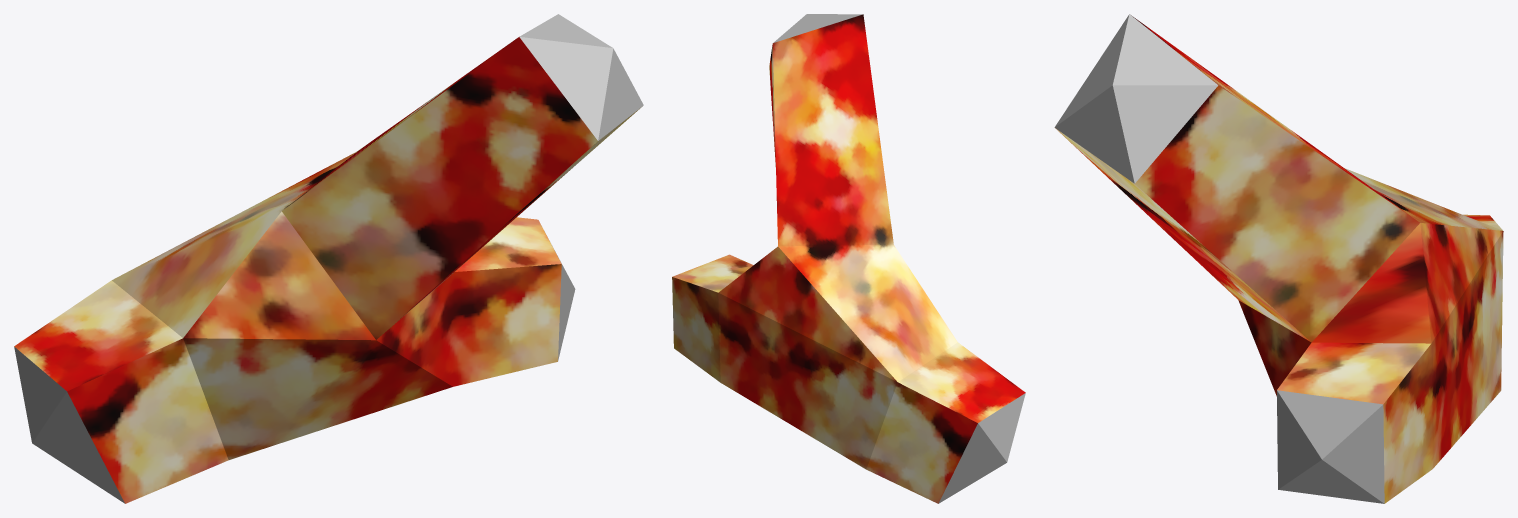
Rendered from LeftAntler2.fbx.
3 views of the same model, side by side, from view 1: azimuth 30°, elevation 25°; view 2: azimuth 150°, elevation 25°; view 3: azimuth 270°, elevation 25° (orthographic). The views are drawn at different scales.
Parts seen in each view (by area): view 1: BigLeftAntler2; view 2: BigLeftAntler2; view 3: BigLeftAntler2.
Boxes of the visible parts, bbox=[...] form: BigLeftAntler2: bbox=[14, 14, 643, 503]; BigLeftAntler2: bbox=[672, 14, 1025, 503]; BigLeftAntler2: bbox=[1054, 14, 1503, 503].
Size of the model in its own units: 489 by 454 by 372.
